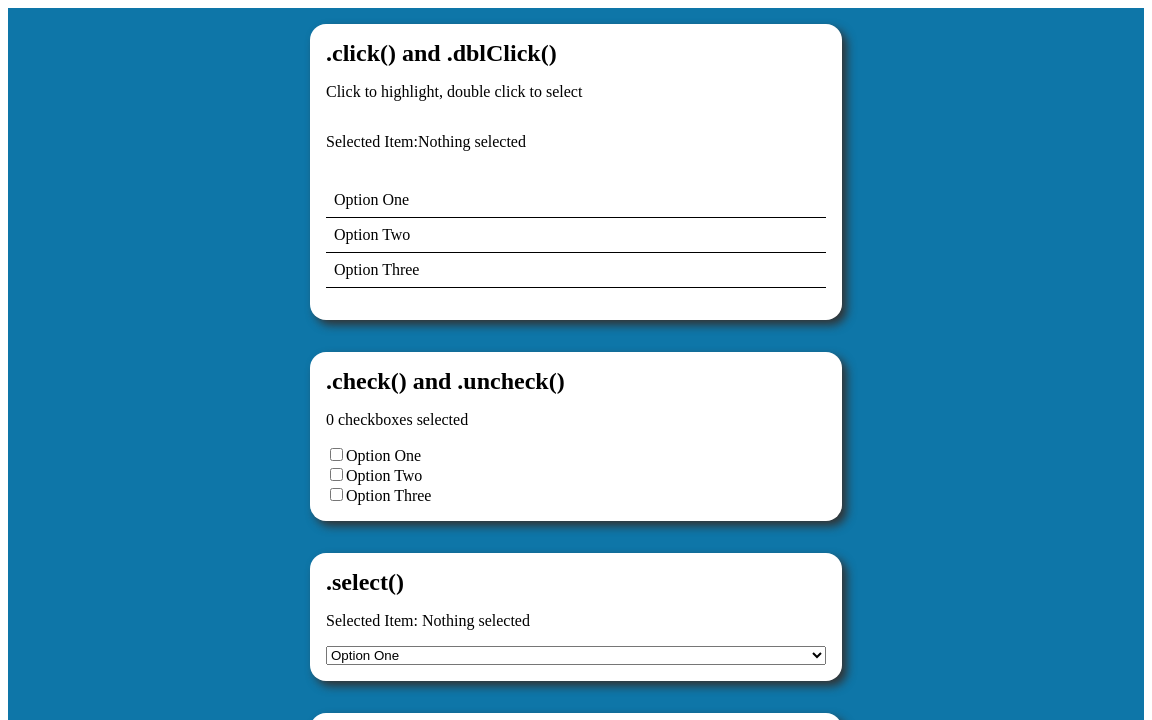
Scenario: Third block, commands: select › Validate first option
Select "0" in the dropdown with test id "box-3-dropdown" at (576, 656), box [326,646,826,665]
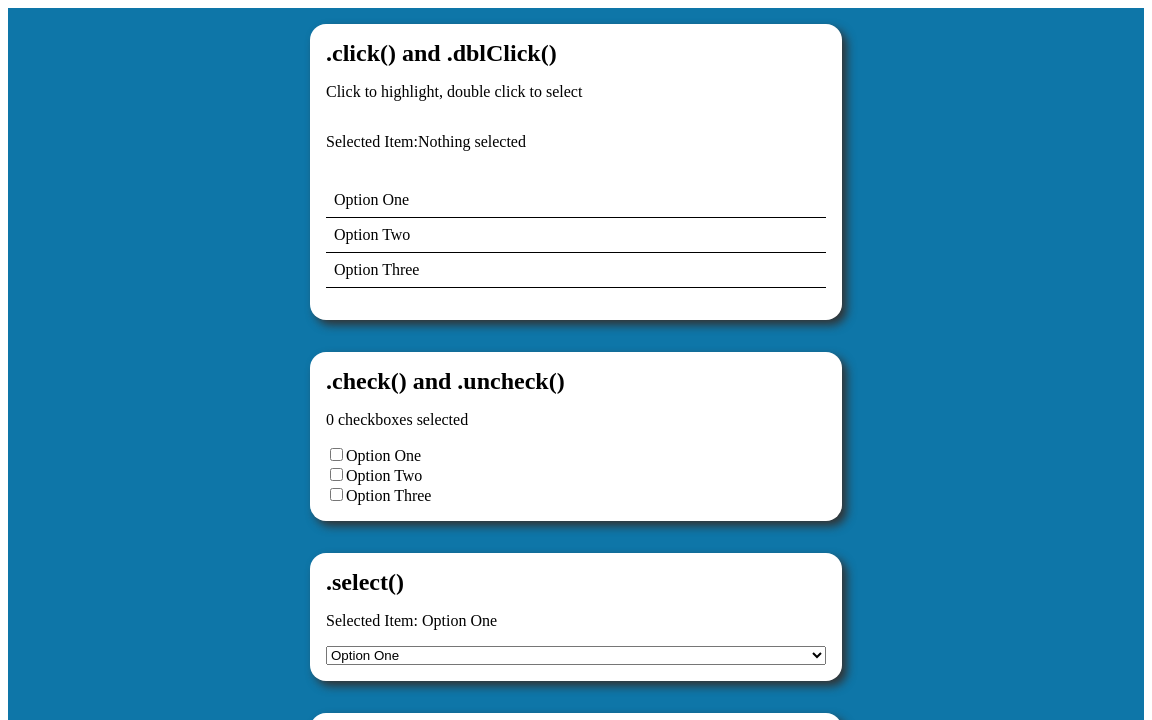
Check: the text with test id "box-3-selected-name" reads "Option One", box [422,612,497,629]
